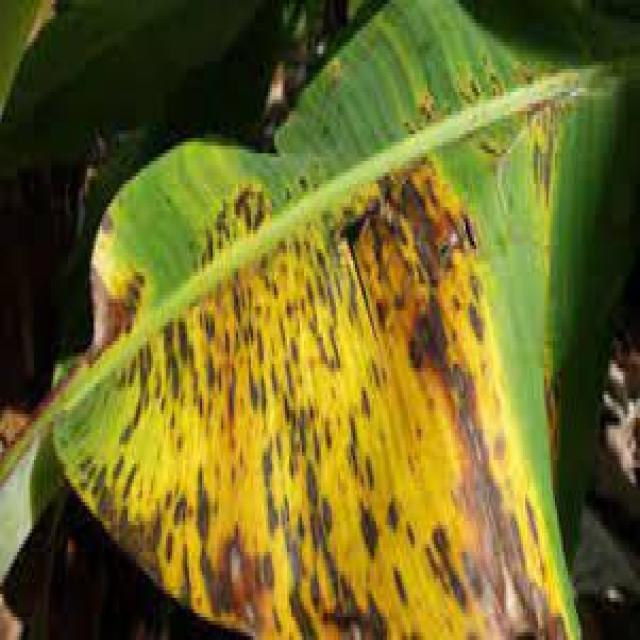Early_rust: (0, 124, 637, 640)
